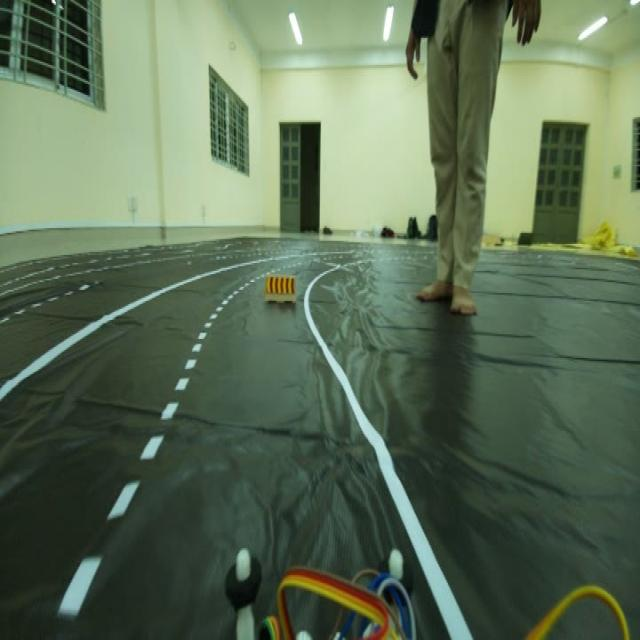roadblock: (261, 260, 299, 313)
